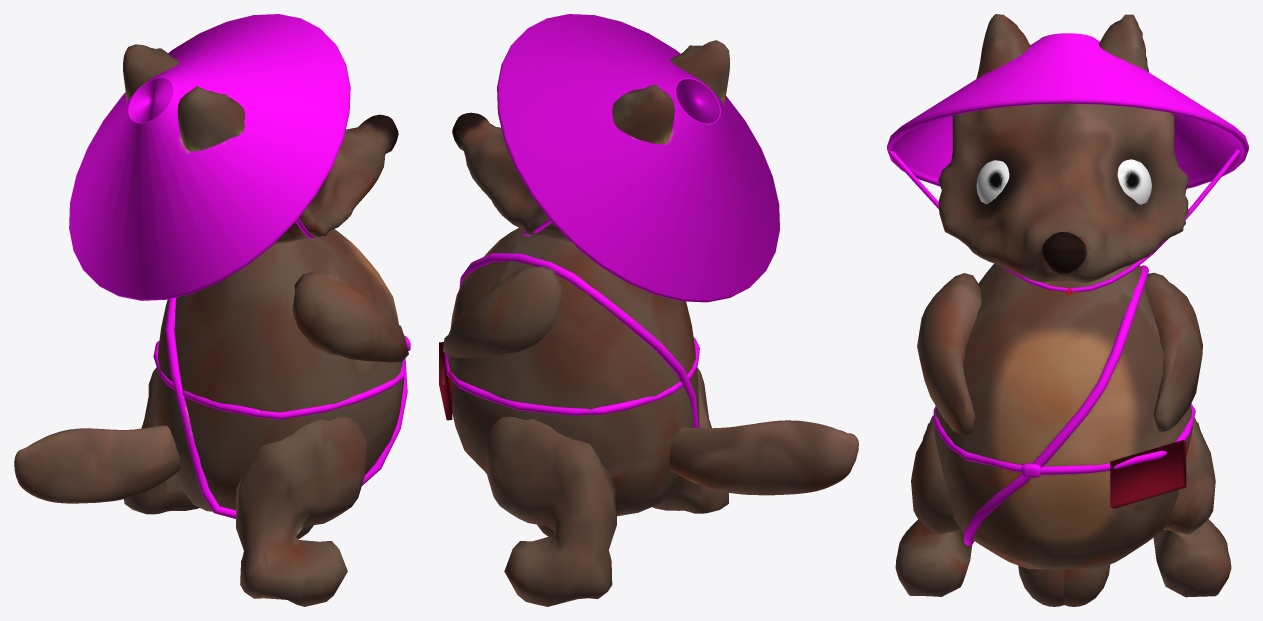
The model's file is Player.obj.
3 renders of one model, left to right at view 1: azimuth 30°, elevation 25°; view 2: azimuth 150°, elevation 25°; view 3: azimuth 270°, elevation 25°, orthographic. The views are drawn at different scales.
Visible parts, largest first — view 1: tanuki:Mesh; view 2: tanuki:Mesh; view 3: tanuki:Mesh.
Boxes of the visible parts, x1=… form: tanuki:Mesh: x1=14, y1=14, x2=410, y2=606; tanuki:Mesh: x1=439, y1=14, x2=858, y2=606; tanuki:Mesh: x1=887, y1=14, x2=1248, y2=606.
Bounding box in the file's own units: 1.79 × 2.21 × 1.35.
